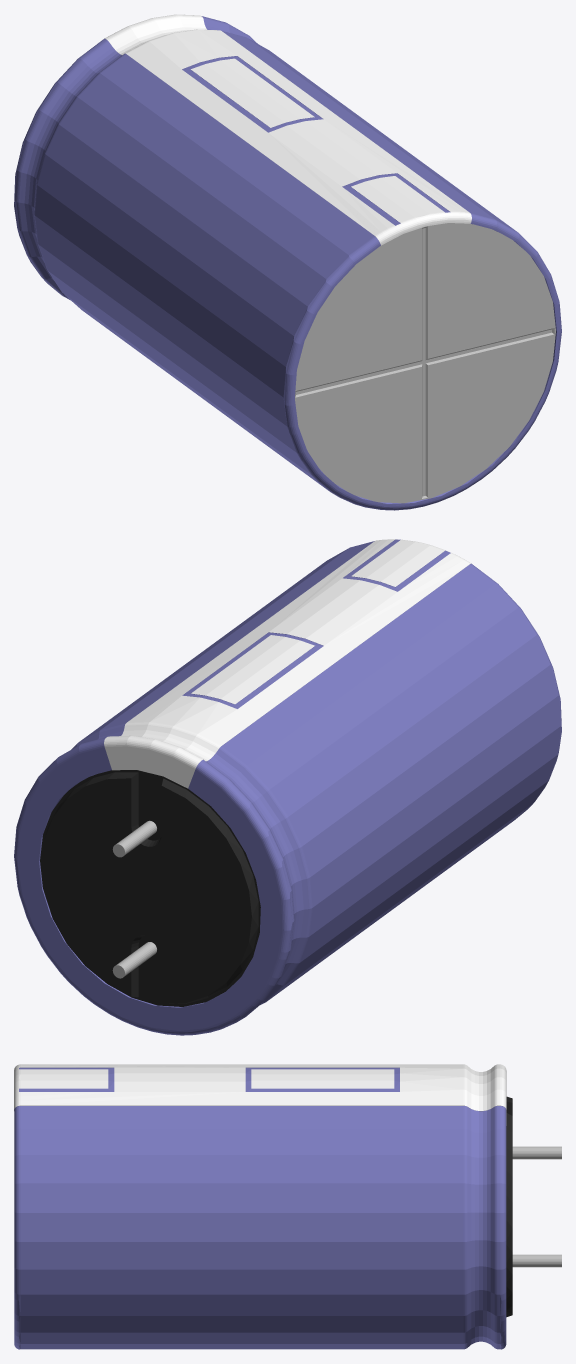
The model's file is cap_el_d18_h31.5_pitch7.5_w0.8.obj.
3 views of the same model, one above another, from view 1: azimuth 30°, elevation 25°; view 2: azimuth 150°, elevation 25°; view 3: azimuth 270°, elevation 25° (orthographic). The views are drawn at different scales.
Visible parts, largest first — view 1: cap_el_d18_h31.5_pitch7.5_w0.8; view 2: cap_el_d18_h31.5_pitch7.5_w0.8; view 3: cap_el_d18_h31.5_pitch7.5_w0.8.
Part boxes in pixels (left/top/right/bottom): cap_el_d18_h31.5_pitch7.5_w0.8: left=14, top=14, right=561, bottom=510; cap_el_d18_h31.5_pitch7.5_w0.8: left=14, top=539, right=561, bottom=1035; cap_el_d18_h31.5_pitch7.5_w0.8: left=14, top=1064, right=561, bottom=1349.
Bounding box in the file's own units: 0.0106 × 0.0106 × 0.0203.
